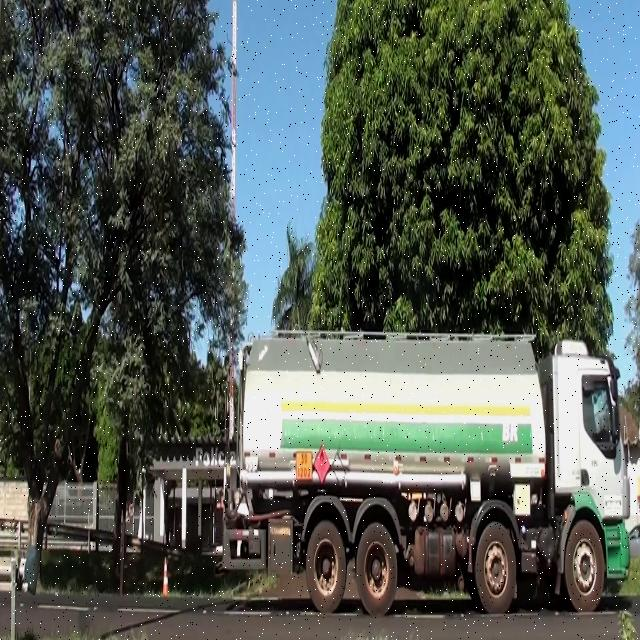-axle: (475, 522, 517, 619), (565, 517, 606, 616), (356, 522, 397, 614), (307, 520, 346, 616)
